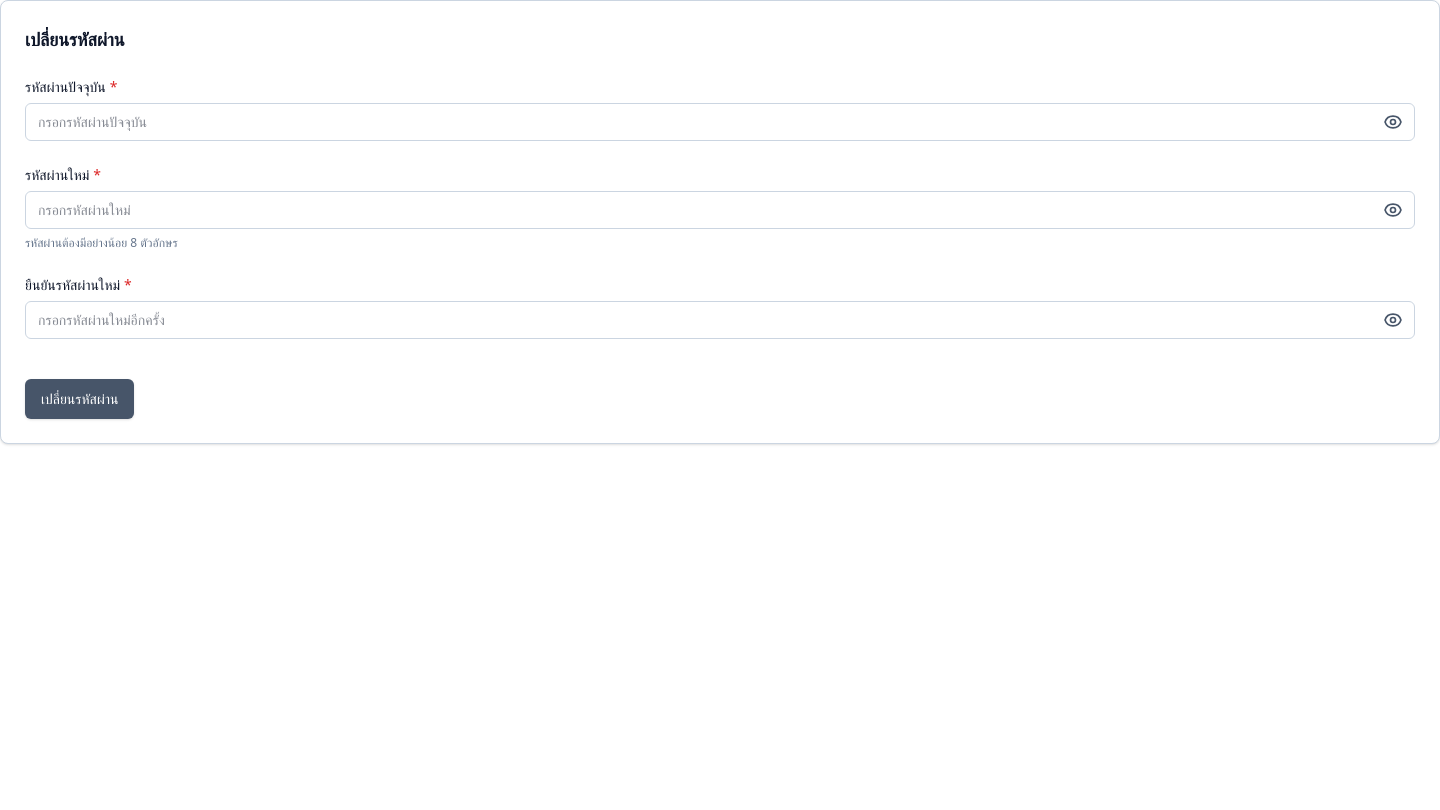
ChangePasswordForm Component › should show validation error for password mismatch
Type "oldpass123" into the password field with placeholder "กรอกรหัสผ่านปัจจุบัน" at point(720, 122), box [25, 103, 1415, 141]
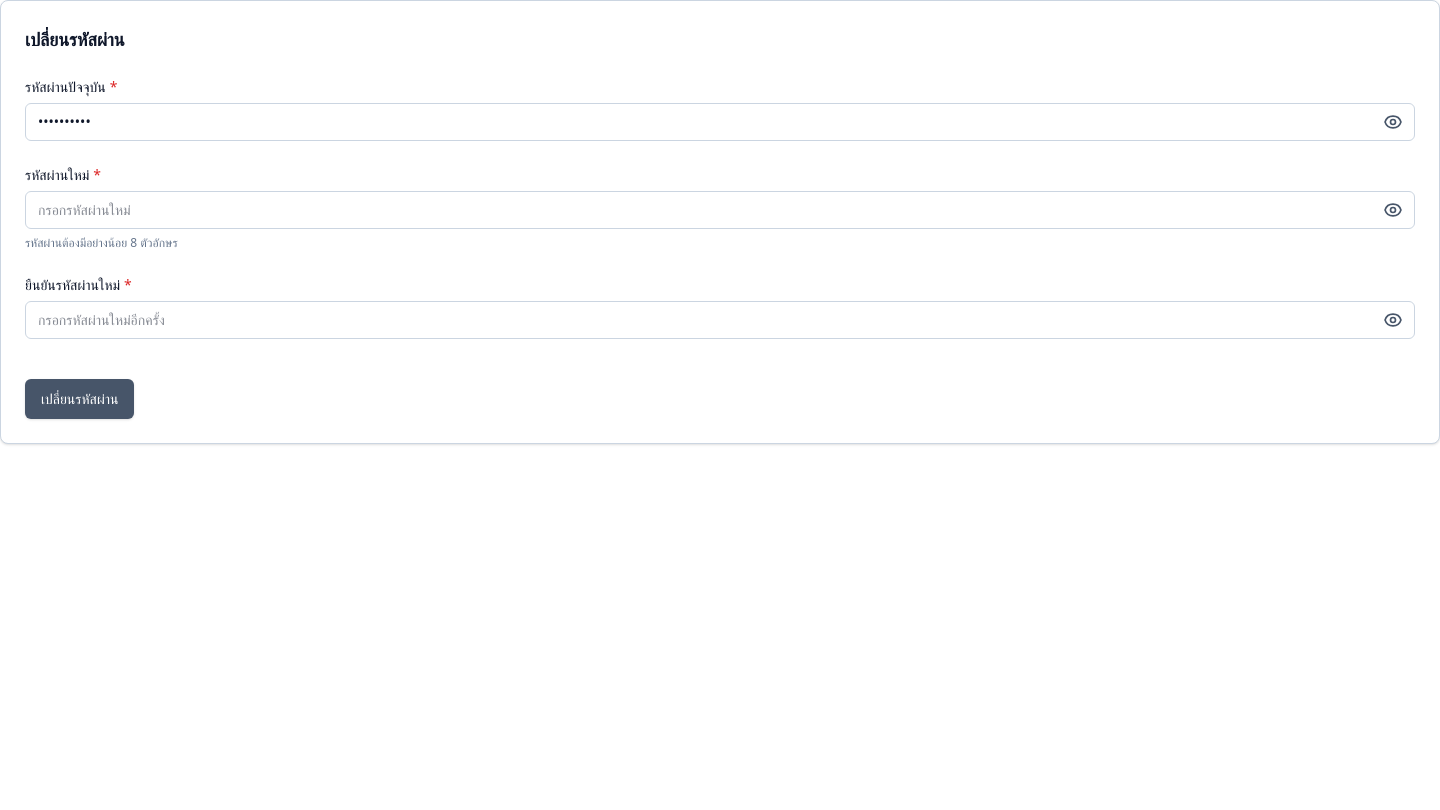
Type "newpass123" into the password field with placeholder "กรอกรหัสผ่านใหม่" at point(720, 210), box [25, 191, 1415, 229]
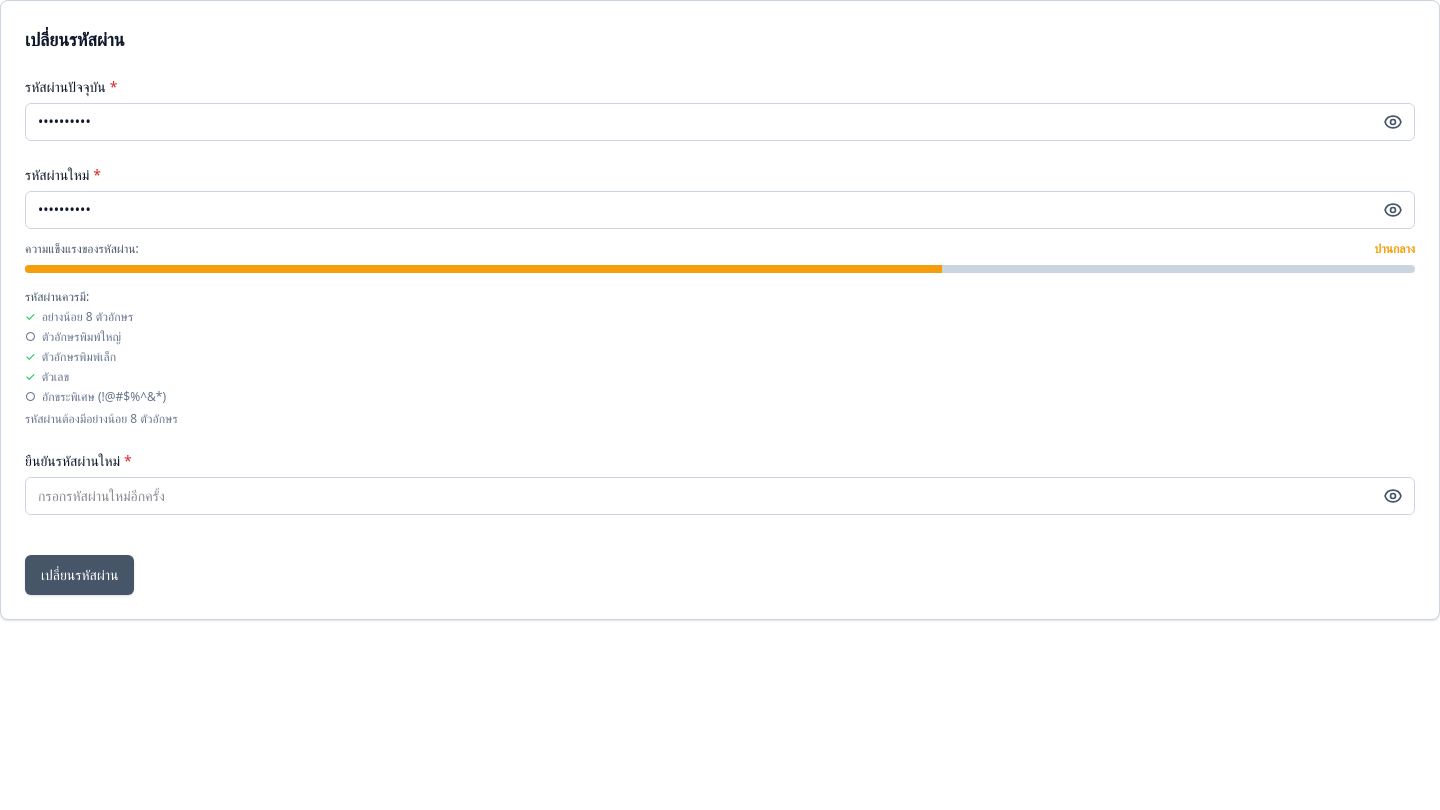
Type "different123" into the password field with placeholder "กรอกรหัสผ่านใหม่อีกครั้ง" at point(720, 496), box [25, 477, 1415, 515]
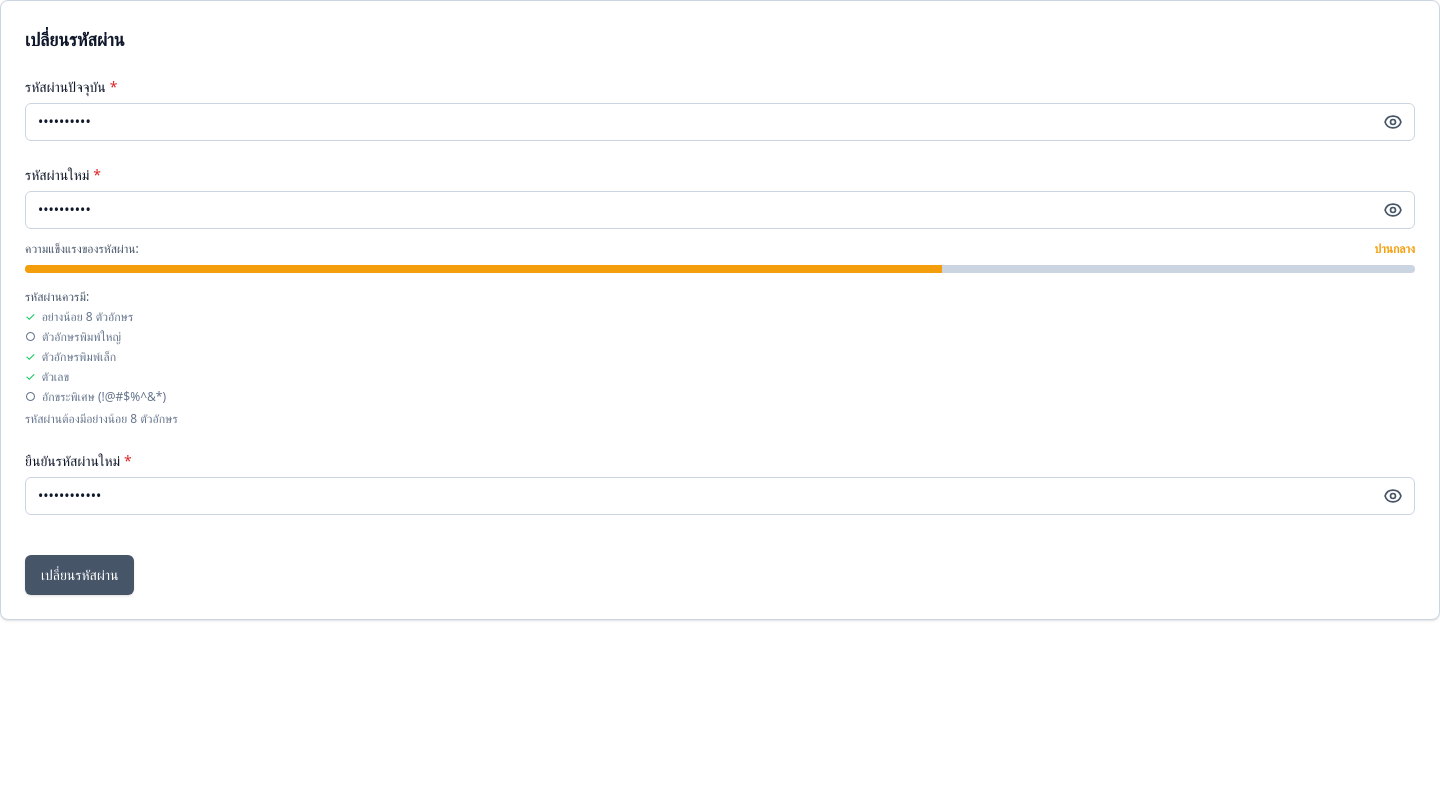
Click the button "เปลี่ยนรหัสผ่าน" at point(80, 575), box [25, 555, 134, 595]
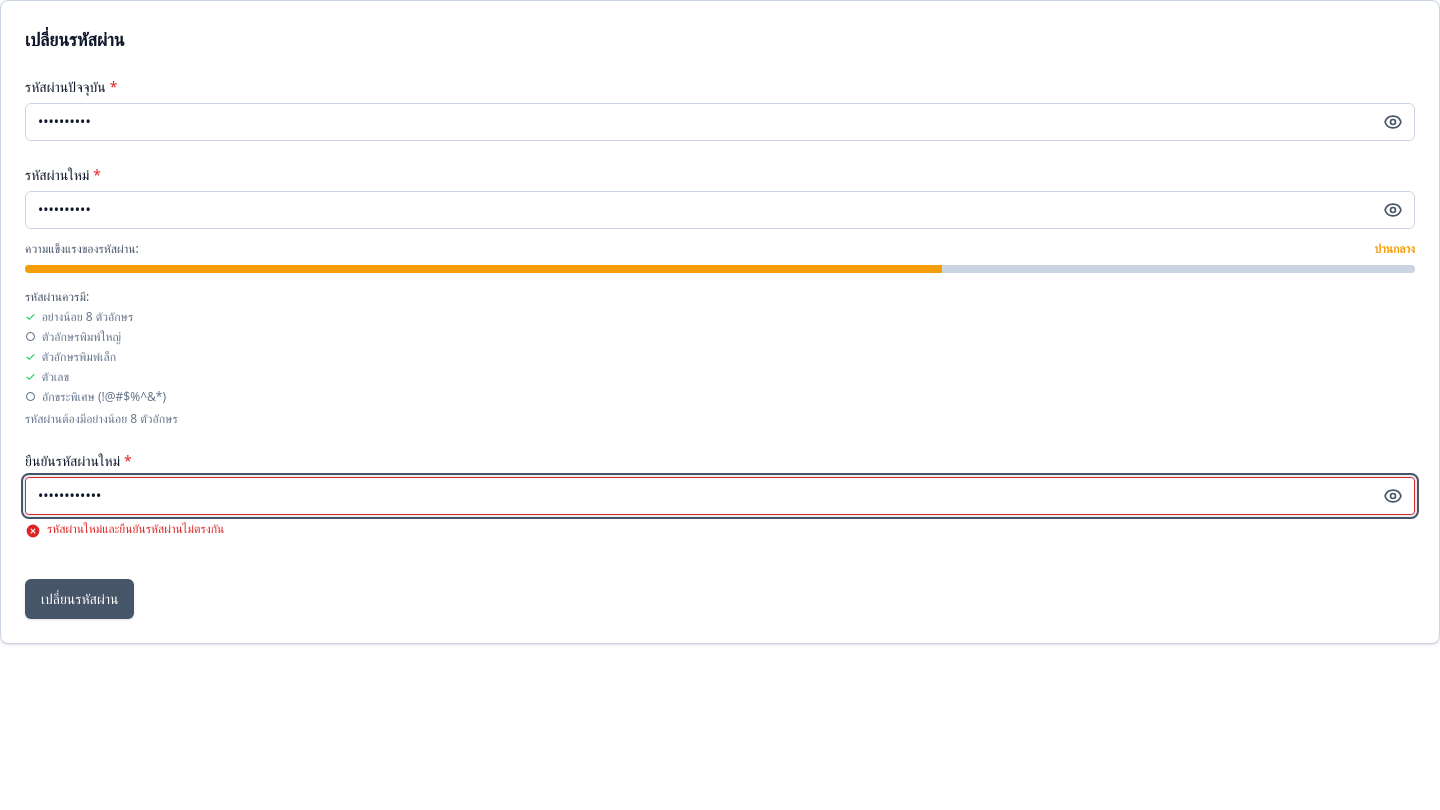
Now the text "รหัสผ่านใหม่และยืนยันรหัสผ่านไม่ตรงกัน" is shown, box [47, 521, 224, 537]
